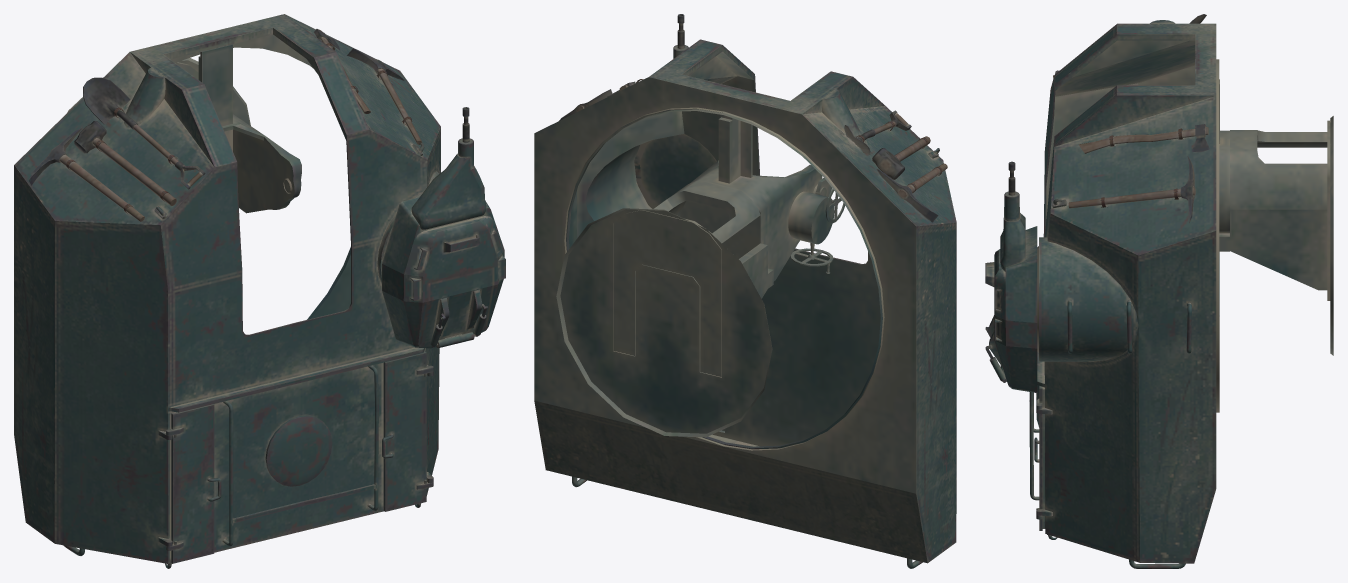
File: Turret_01.glb
The picture shows the model from 3 angles, left to right: view 1: azimuth 30°, elevation 25°; view 2: azimuth 150°, elevation 25°; view 3: azimuth 270°, elevation 25°; orthographic projection. The views are drawn at different scales.
Parts seen in each view (by area): view 1: set_0_group_0; view 2: set_0_group_0; view 3: set_0_group_0.
Boxes of the visible parts, x1,y1,x2,y2 form: set_0_group_0: (14, 14, 505, 568); set_0_group_0: (534, 14, 956, 568); set_0_group_0: (985, 14, 1333, 568).
Size of the model in its own units: 3.11 by 3.35 by 2.45.
Materials: 1 (1 with a texture image).
